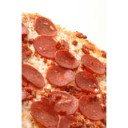pepperonipizza: (22, 11, 107, 128)
